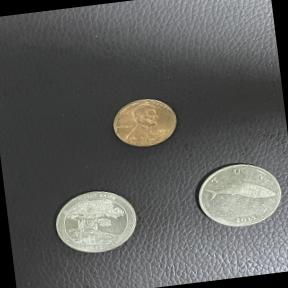Croatia-2Kune-B: (186, 151, 288, 236)
US-1cent-B: (105, 92, 186, 156)
US-25cent-B: (43, 180, 147, 263)
